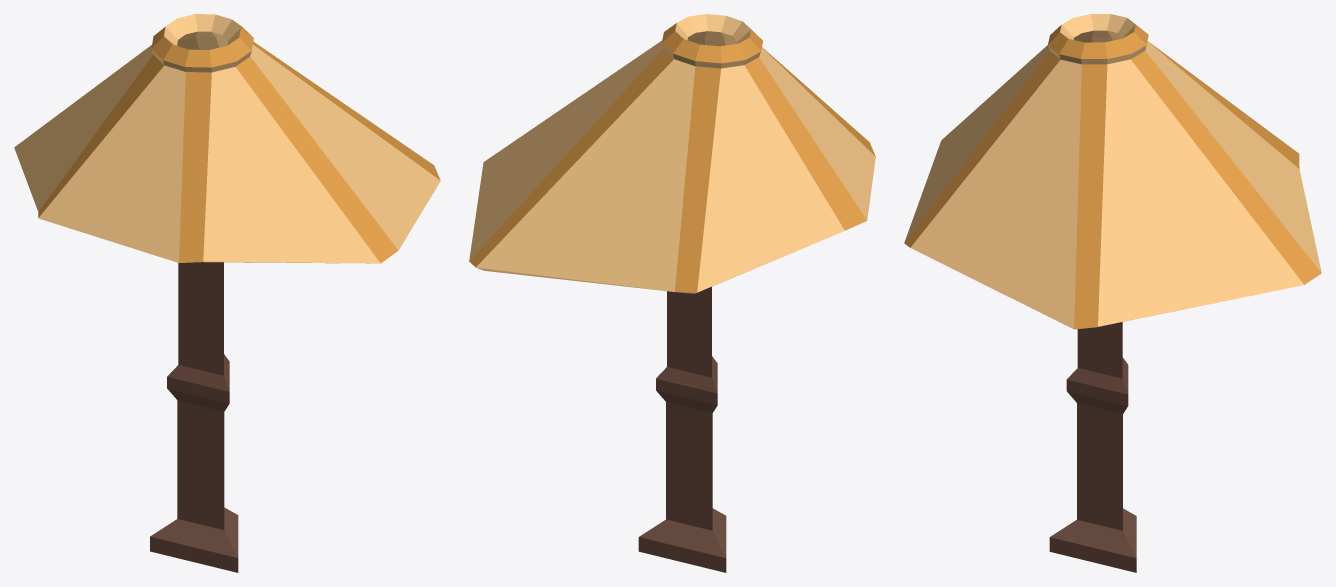
File: lamp-by-sirkitree-5V_1VoXNvgr.glb
3 views of the same model, side by side, from view 1: azimuth 30°, elevation 25°; view 2: azimuth 150°, elevation 25°; view 3: azimuth 270°, elevation 25° (orthographic).
Parts seen in each view (by area): view 1: group1171682687, group734743985; view 2: group1171682687, group734743985; view 3: group1171682687, group734743985.
Boxes of the visible parts, bbox=[...] form: group1171682687: bbox=[14, 14, 440, 263]; group734743985: bbox=[150, 262, 238, 572]; group1171682687: bbox=[469, 14, 875, 293]; group734743985: bbox=[638, 287, 726, 572]; group1171682687: bbox=[904, 14, 1321, 329]; group734743985: bbox=[1049, 322, 1136, 572].
Size of the model in its own units: 0.6844 by 0.8812 by 0.6414.
